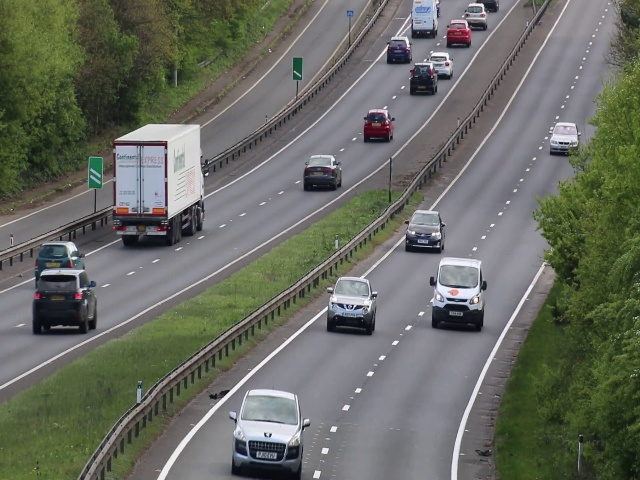car: (115, 119, 207, 252), (227, 388, 309, 477), (428, 253, 486, 331), (32, 267, 98, 335), (324, 274, 377, 334), (31, 240, 86, 281), (403, 207, 445, 253), (303, 153, 344, 189), (360, 106, 397, 142), (548, 119, 579, 157), (409, 1, 439, 39), (408, 65, 439, 97), (383, 35, 414, 65), (445, 17, 473, 49), (425, 52, 457, 78)
